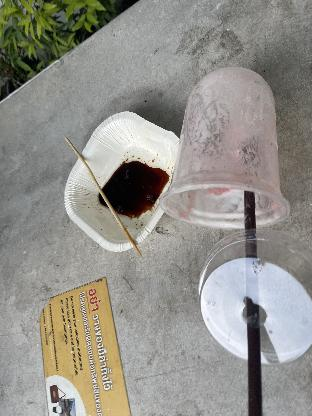Plastic Cup: (156, 65, 292, 230), (61, 110, 185, 260), (194, 227, 312, 365)
